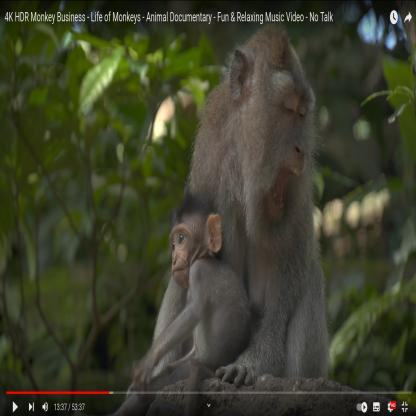monkey: (176, 22, 334, 387)
